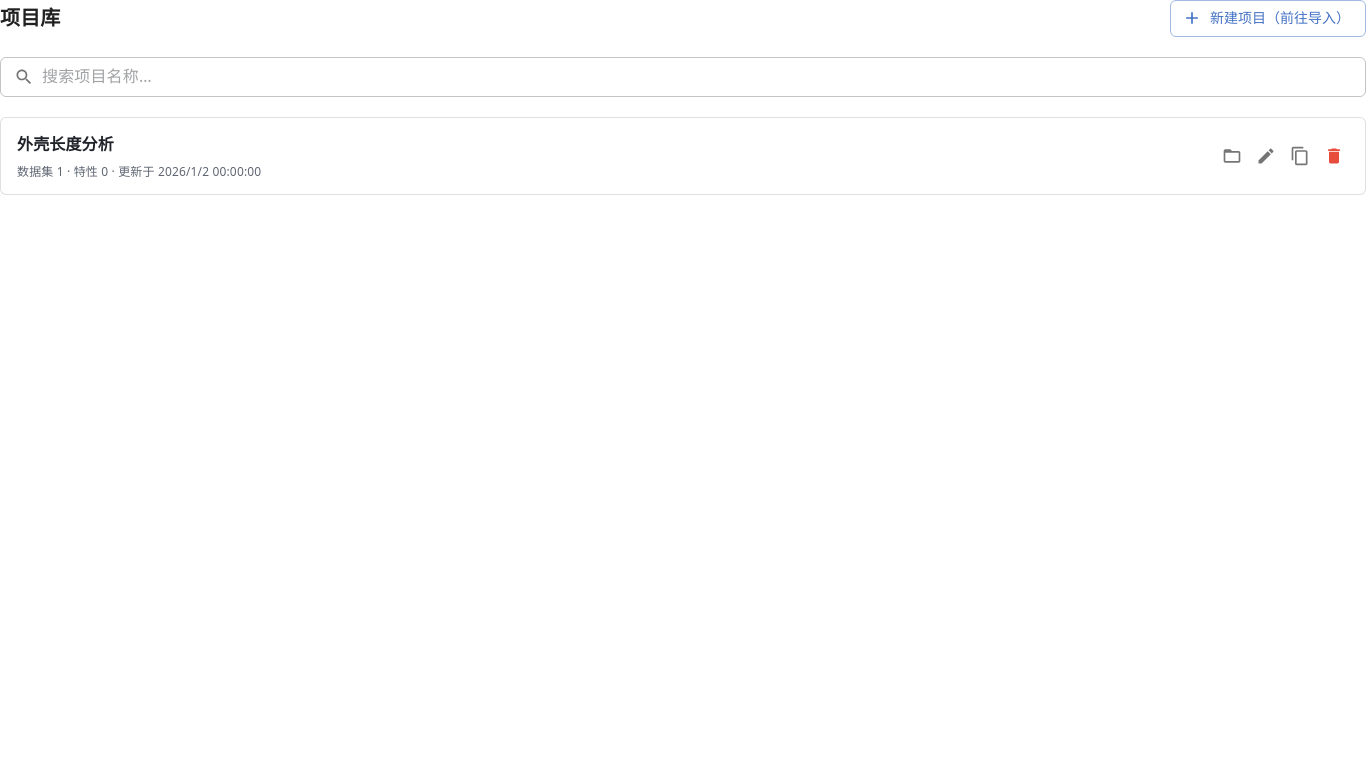
ProjectLibraryPage › 重命名项目 → 列表更新
Check: the heading "外壳长度分析" is shown, box [17,130,114,158]
Click the button named "重命名项目" at (1266, 156), box [1251,140,1281,170]
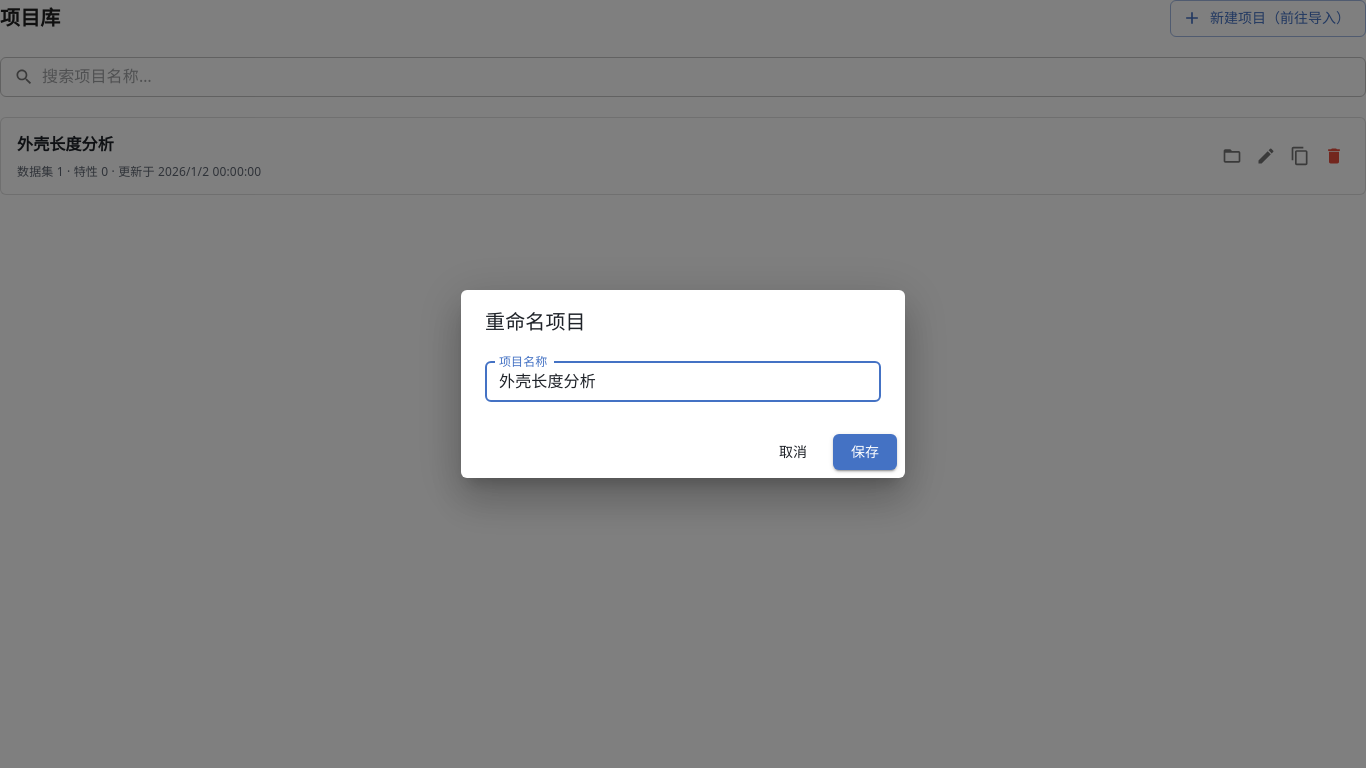
Replace the text in the field labelled "项目名称" with "新名字" at (683, 382), box [485,362,881,402]
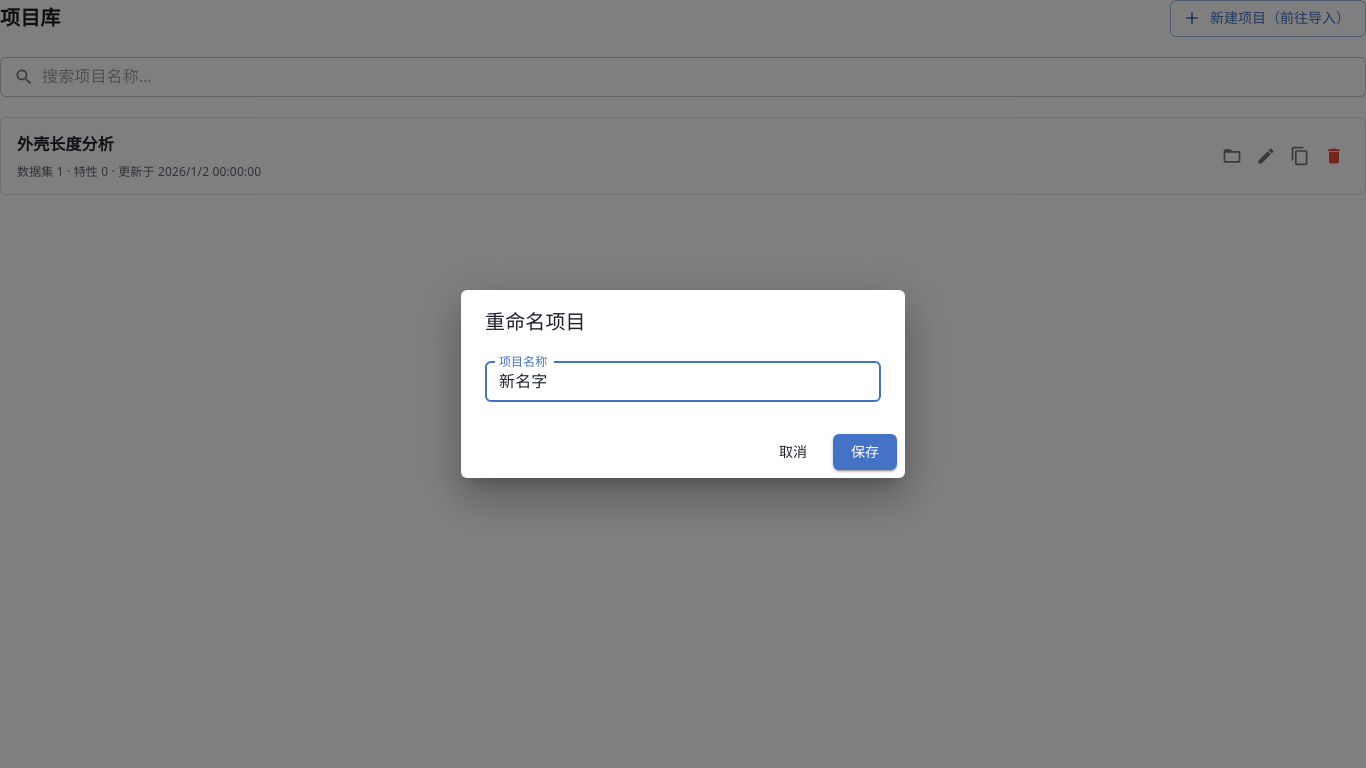
Click the button "保存" at (865, 452), box [833,434,897,470]
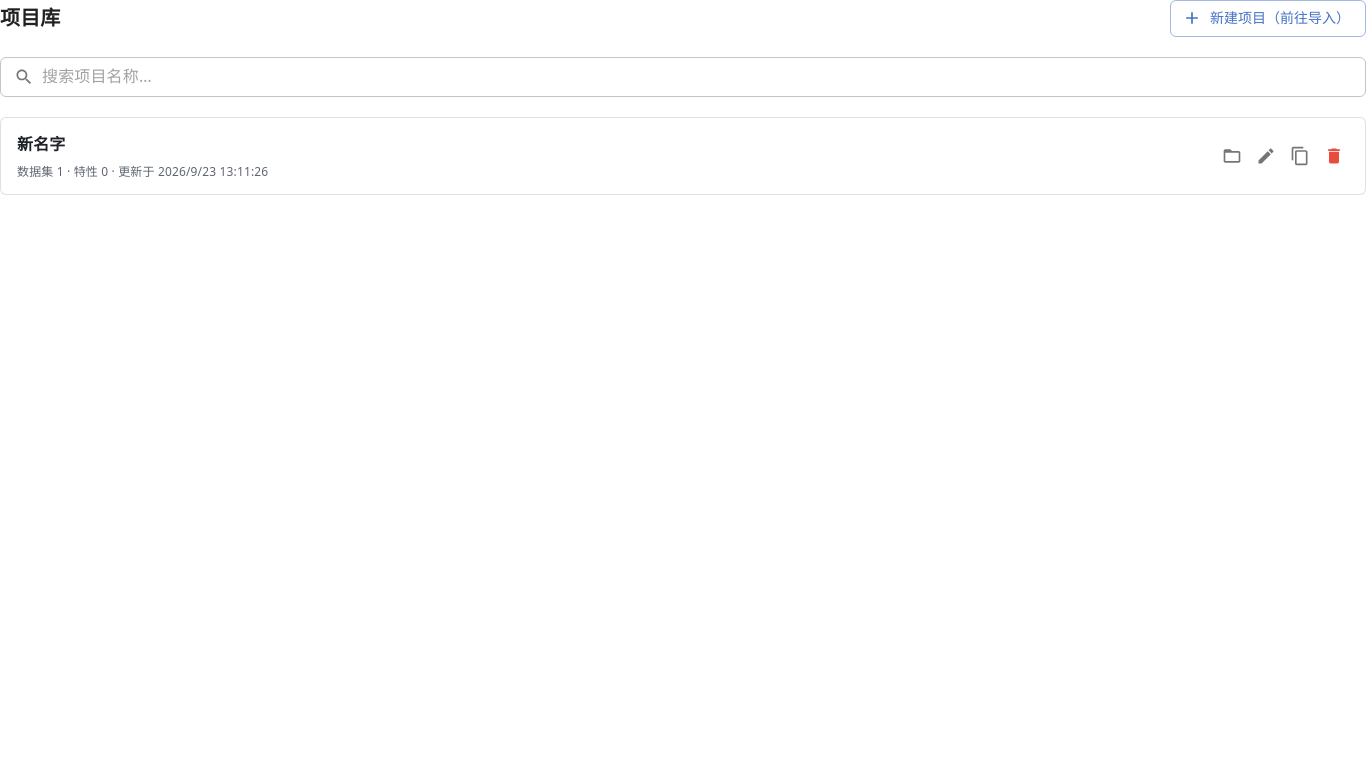
Check: the heading "新名字" is shown, box [17,130,66,158]
